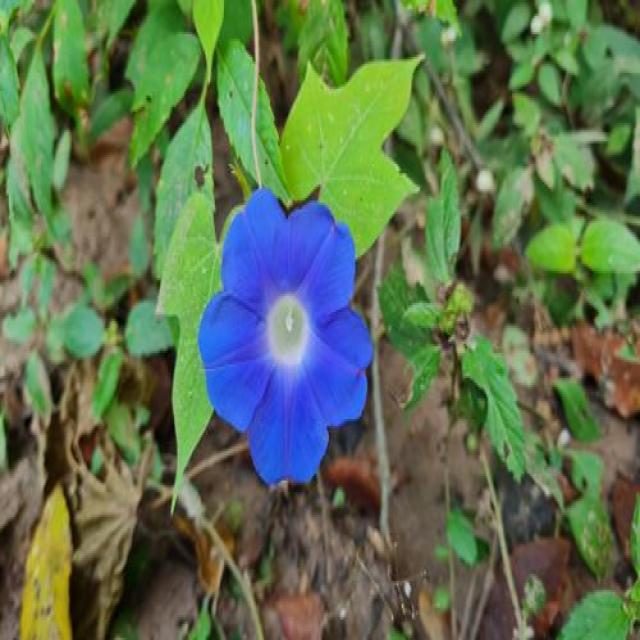ipomoea: (196, 182, 375, 490)
